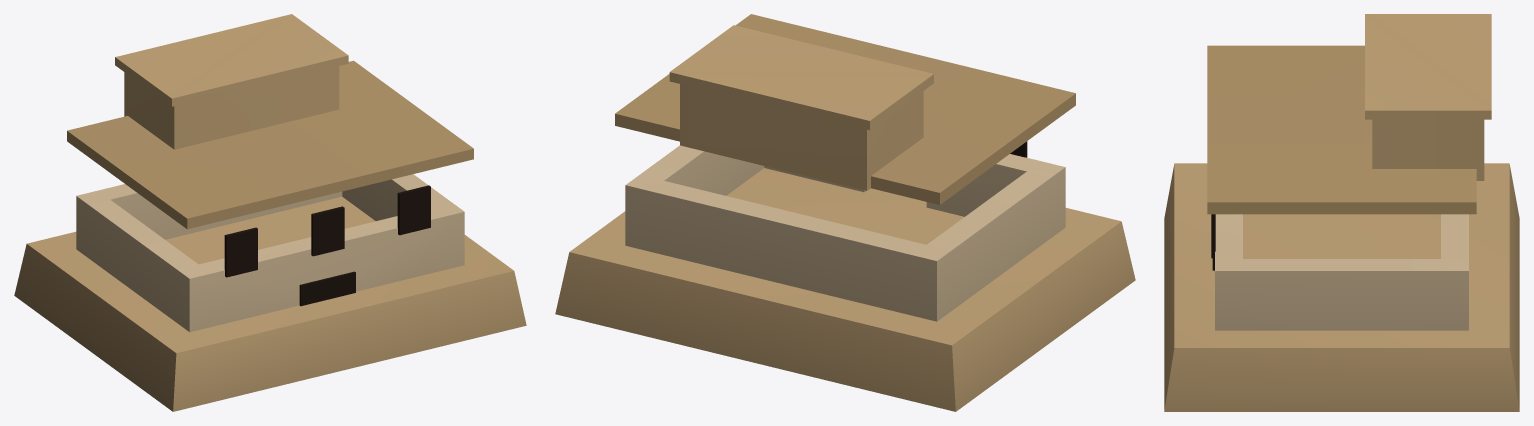
The model's file is moche_audiencia_lod0.glb.
3 renders of one model, left to right at view 1: azimuth 30°, elevation 25°; view 2: azimuth 150°, elevation 25°; view 3: azimuth 270°, elevation 25°, orthographic. The views are drawn at different scales.
Visible parts, largest first — view 1: GEO-Arch_moche_audiencia_LOD0; view 2: GEO-Arch_moche_audiencia_LOD0; view 3: GEO-Arch_moche_audiencia_LOD0.
Part boxes in pixels (box(x1,y1,x2,y2)): GEO-Arch_moche_audiencia_LOD0: box(14, 14, 526, 411); GEO-Arch_moche_audiencia_LOD0: box(555, 14, 1135, 411); GEO-Arch_moche_audiencia_LOD0: box(1164, 14, 1519, 411).
Size of the model in its own units: 9 by 5.5 by 7.
